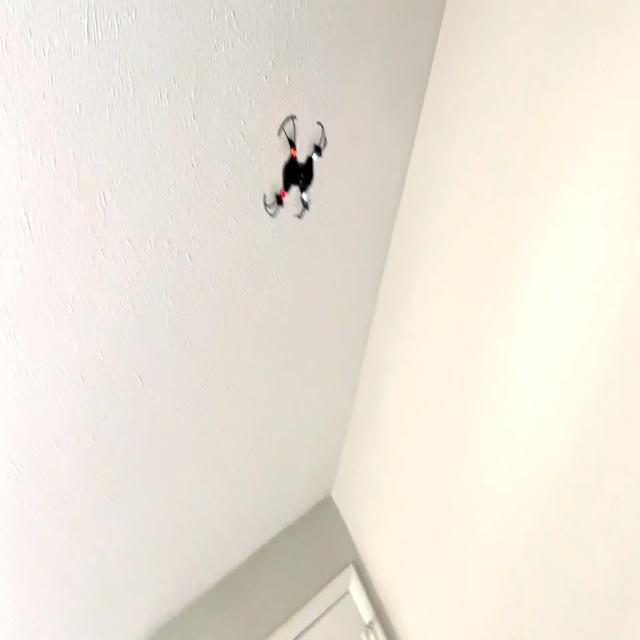drone: (260, 106, 336, 233)
